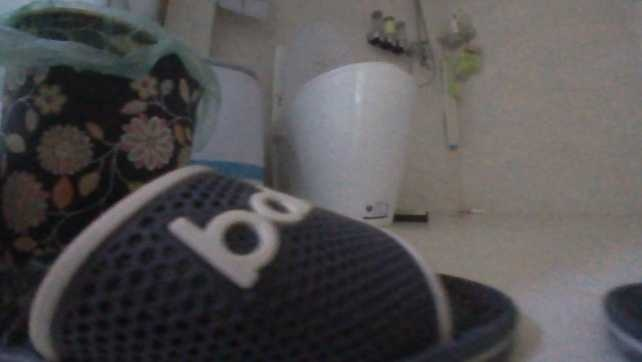slipper: (0, 161, 515, 360)
toilet: (268, 22, 417, 225)
trash_can: (0, 5, 222, 252)
